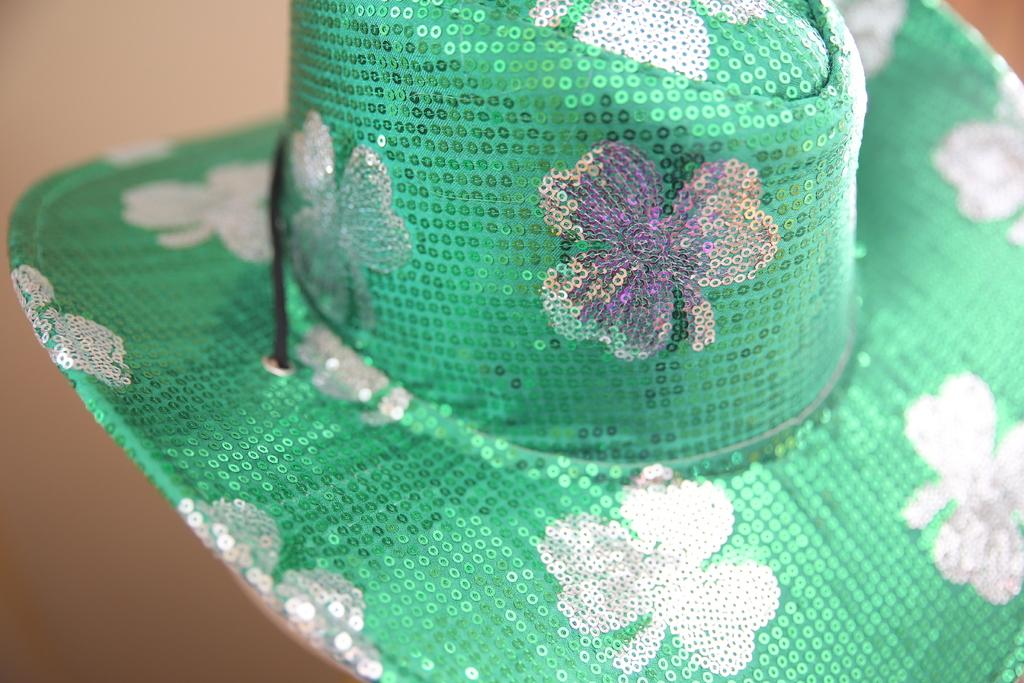Hat: (7, 0, 1023, 682)
